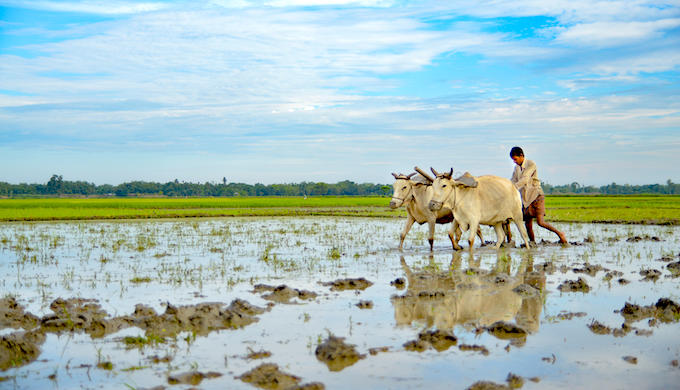human: (506, 142, 575, 253)
